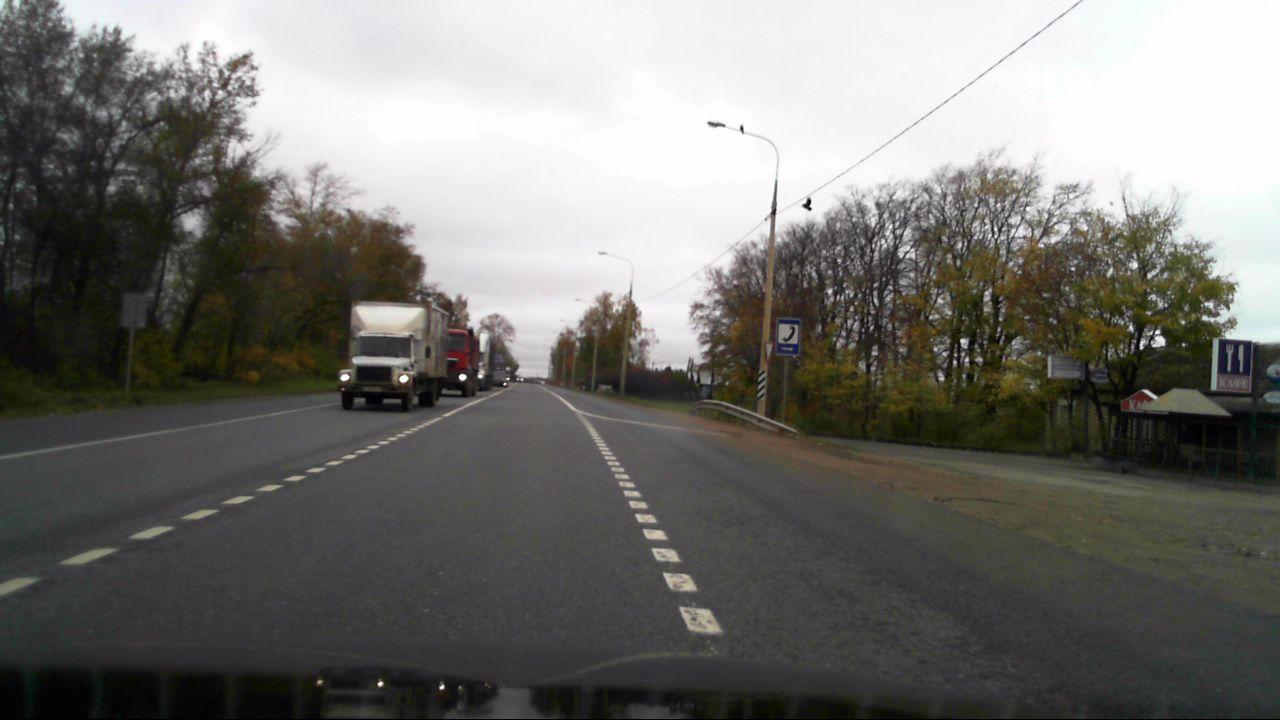7_6: (775, 318, 798, 354)
